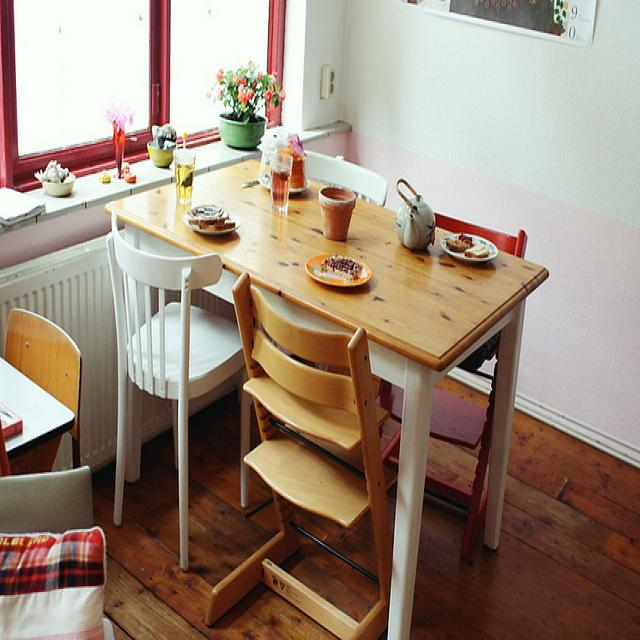chair: (207, 272, 403, 634), (106, 209, 253, 574), (0, 469, 114, 640), (434, 211, 527, 379), (3, 303, 86, 470), (305, 151, 388, 206)
dining table: (105, 154, 550, 640)
